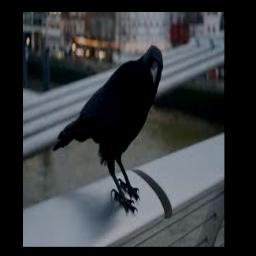Crow: (53, 46, 162, 214)
